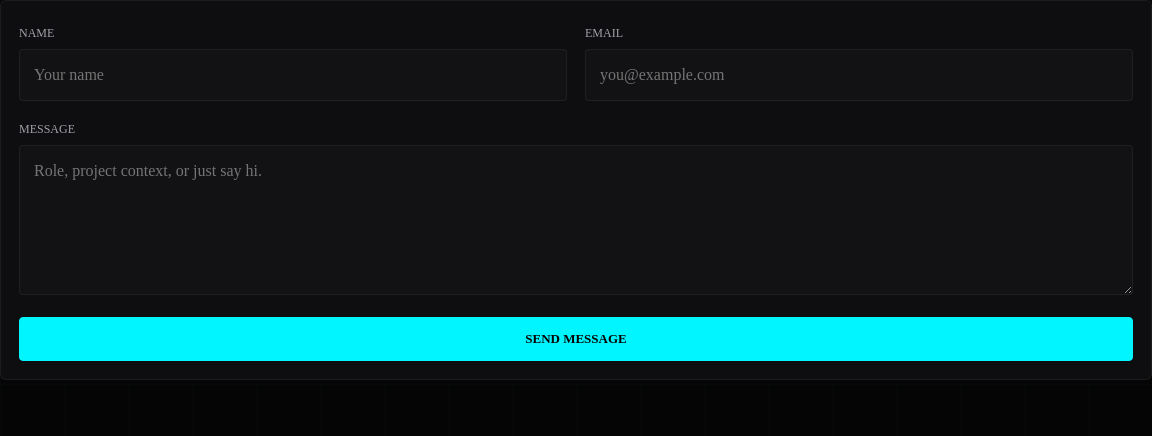
Scenario: ContactForm › should open the mail app when no endpoint is configured
In the field labelled "Name": (293, 75) [19,49,567,101], type "Huy"
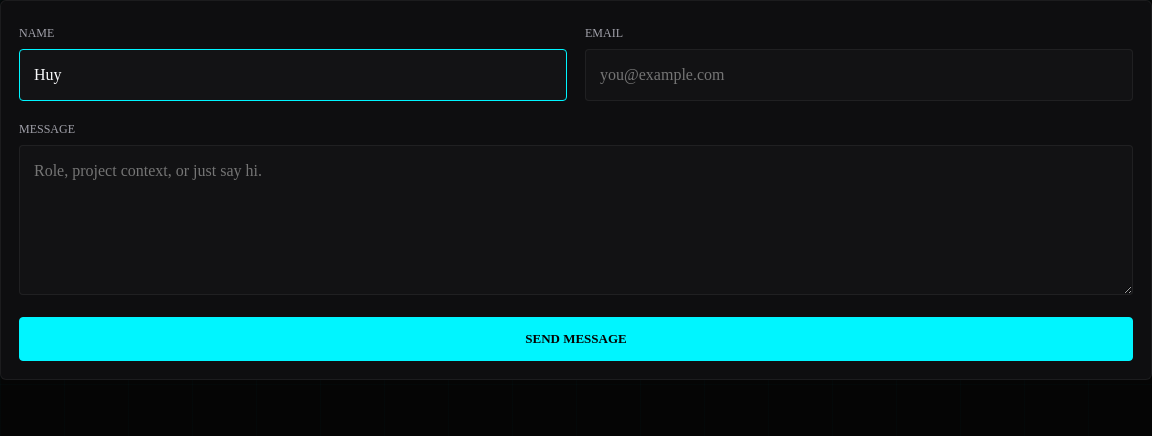
In the field labelled "Email": (859, 75) [585,49,1133,101], type "huy@example.com"
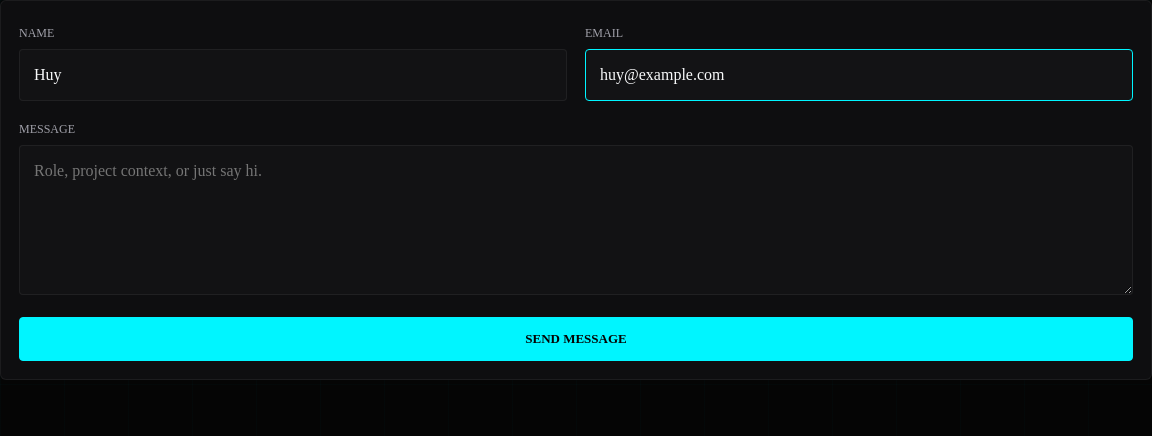
In the text box labelled "Message": (576, 220) [19,145,1133,295], type "Hi"
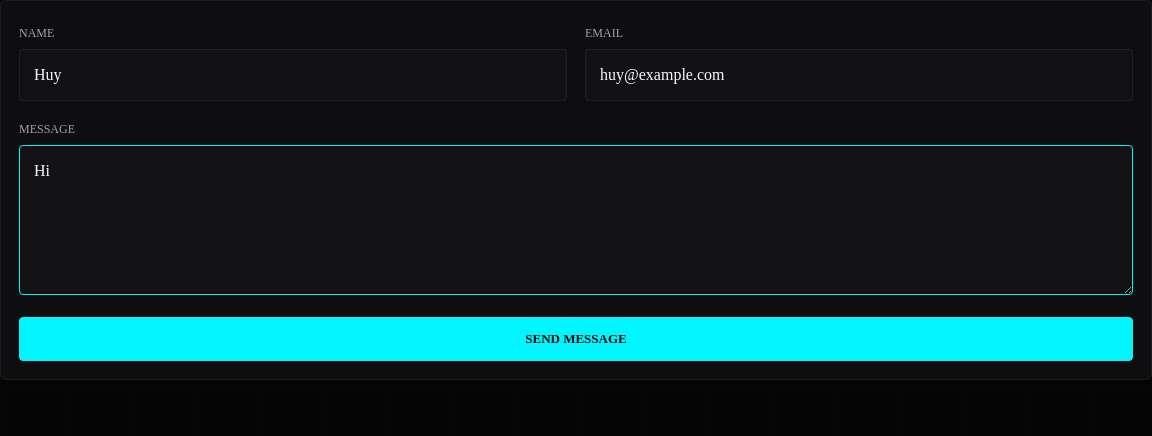
Click the button "Send message": (576, 339) [19,317,1133,361]
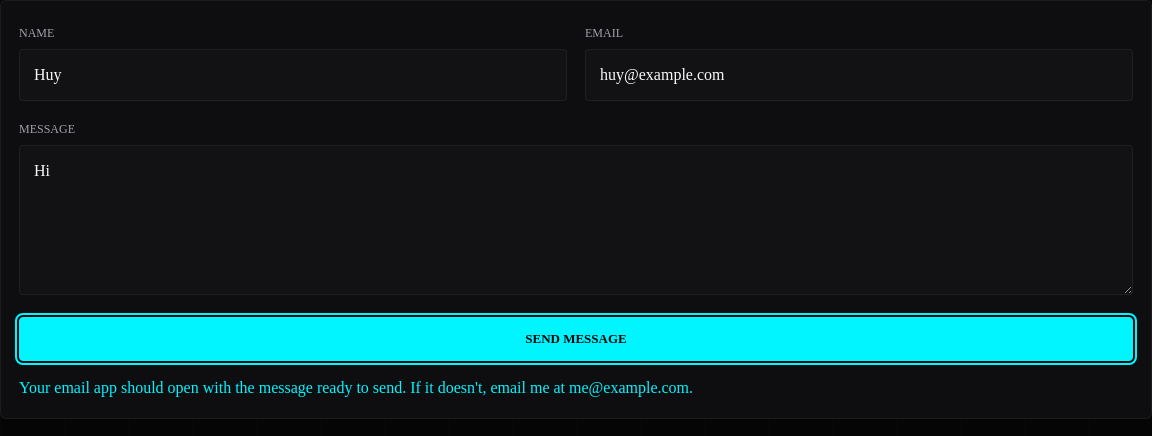
Check: the message shows "Your email app should open", box [19,379,565,396]
